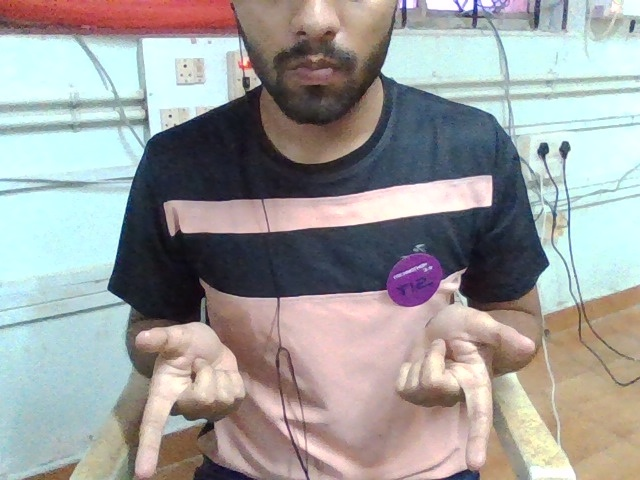go: (97, 288, 548, 480)
